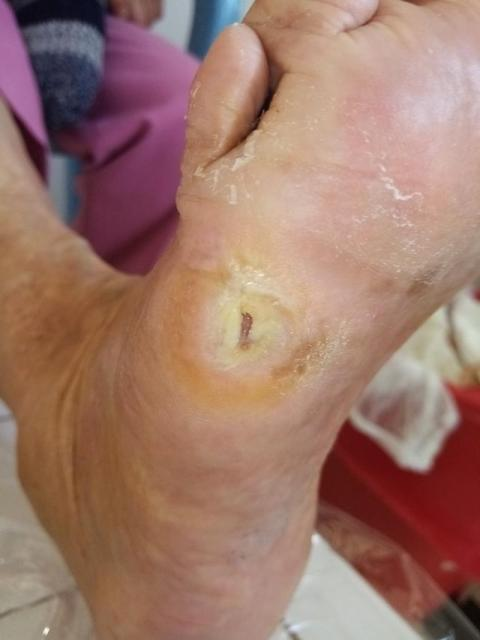wound: (231, 307, 259, 363)
